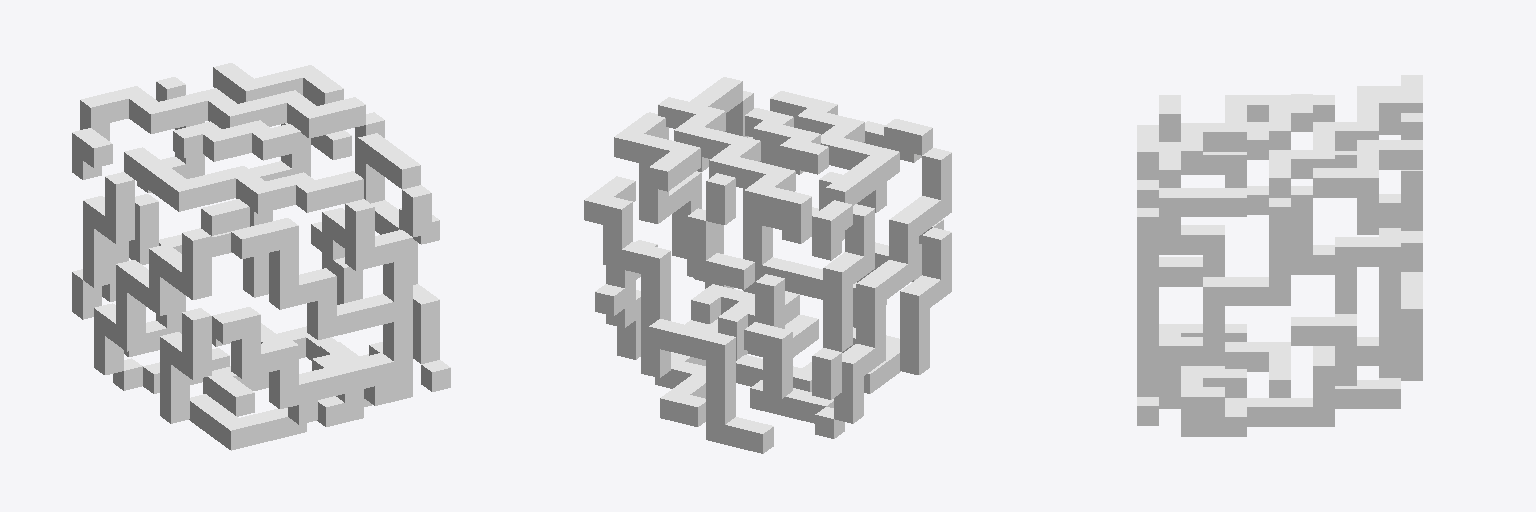
The model's file is tumbleweed.obj.
3 renders of one model, left to right at view 1: azimuth 30°, elevation 25°; view 2: azimuth 150°, elevation 25°; view 3: azimuth 270°, elevation 25°, orthographic.
Visible parts, largest first — view 1: object 1; view 2: object 1; view 3: object 1.
Part boxes in pixels (x1,y1,x2,y2): object 1: (72,63,450,450); object 1: (584,77,951,453); object 1: (1137,75,1422,436).
Bounding box in the file's own units: 1.3 × 1.3 × 1.3.